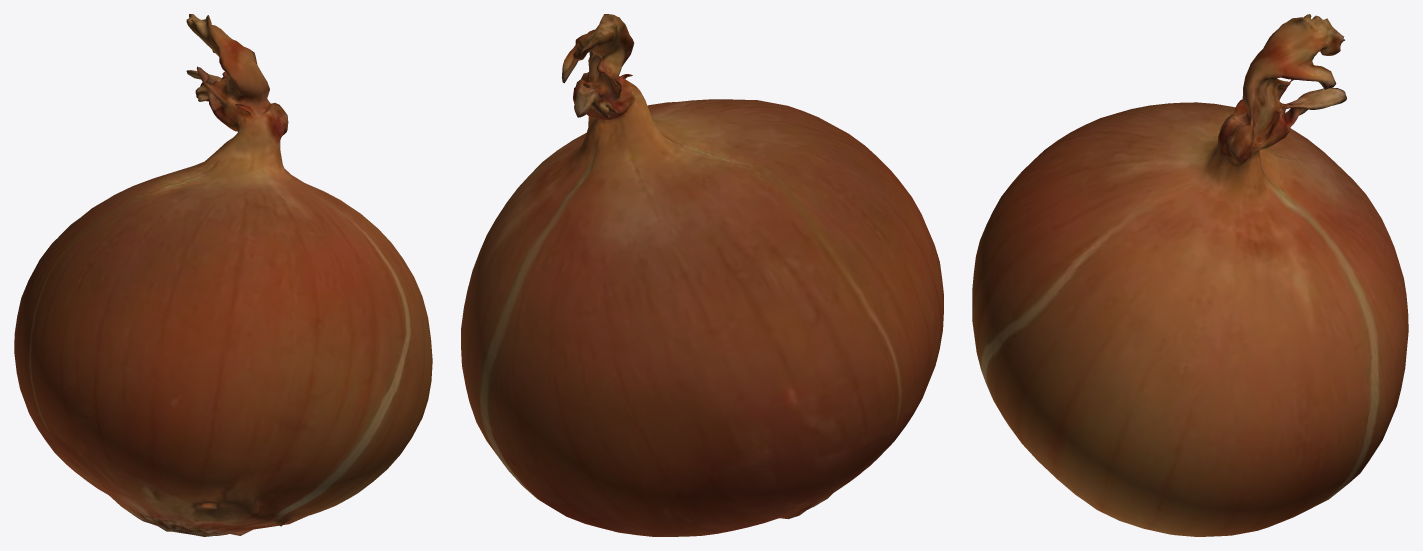
File: yellow_onion.glb
3 views of the same model, side by side, from view 1: azimuth 30°, elevation 25°; view 2: azimuth 150°, elevation 25°; view 3: azimuth 270°, elevation 25° (orthographic). The views are drawn at different scales.
Visible parts, largest first — view 1: yellow_onion; view 2: yellow_onion; view 3: yellow_onion.
Boxes of the visible parts, <box> form: yellow_onion: <box>14,14,432,536</box>; yellow_onion: <box>461,14,943,536</box>; yellow_onion: <box>972,14,1408,536</box>.
Bounding box in the file's own units: 0.0725 × 0.0864 × 0.0686.
1 material, 1 textured.
